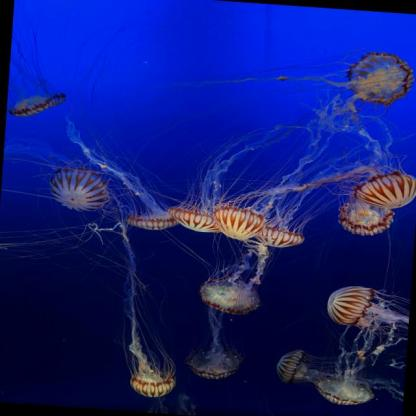jellyfish: (344, 50, 413, 106), (319, 278, 382, 330), (196, 274, 266, 316), (50, 167, 112, 214), (354, 166, 416, 209), (6, 87, 69, 125), (336, 198, 396, 236), (312, 376, 374, 408), (214, 205, 266, 242), (184, 346, 242, 379), (168, 205, 228, 235), (274, 345, 313, 384), (129, 368, 176, 400), (253, 224, 310, 249), (127, 210, 177, 232)
